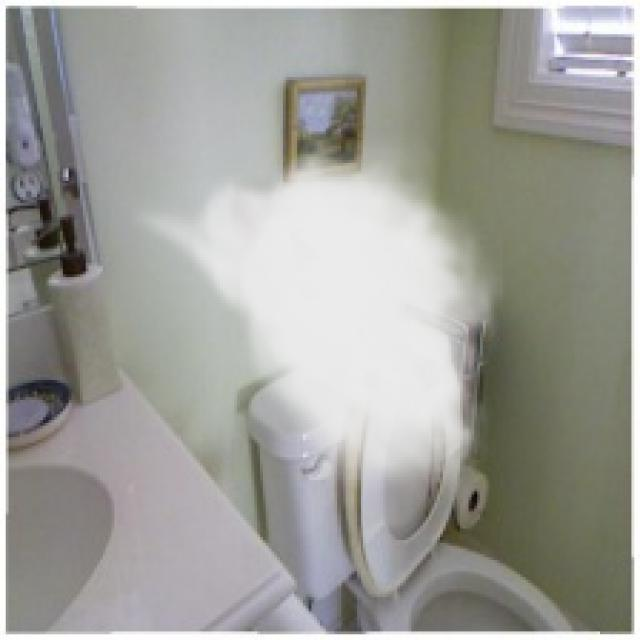Smoke: (126, 132, 506, 512)
